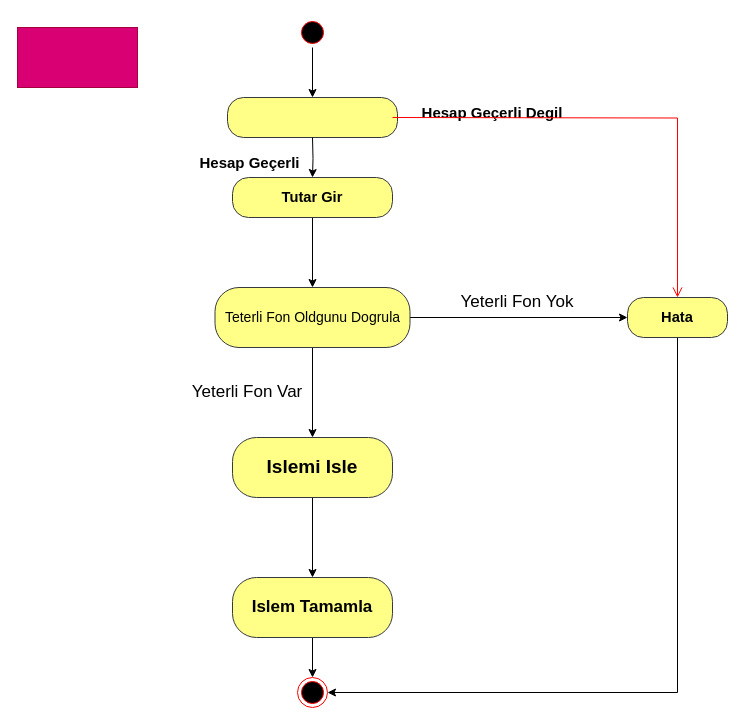
Image size: 745x725. Some labels were removed from this diagram. The shapes that lost their labels are listed below. From the top down, each one's centre as x and y in pixels, then its label:
At point 77,57: "Soru 2".
At point 312,117: "Hesap Doğrulama".
